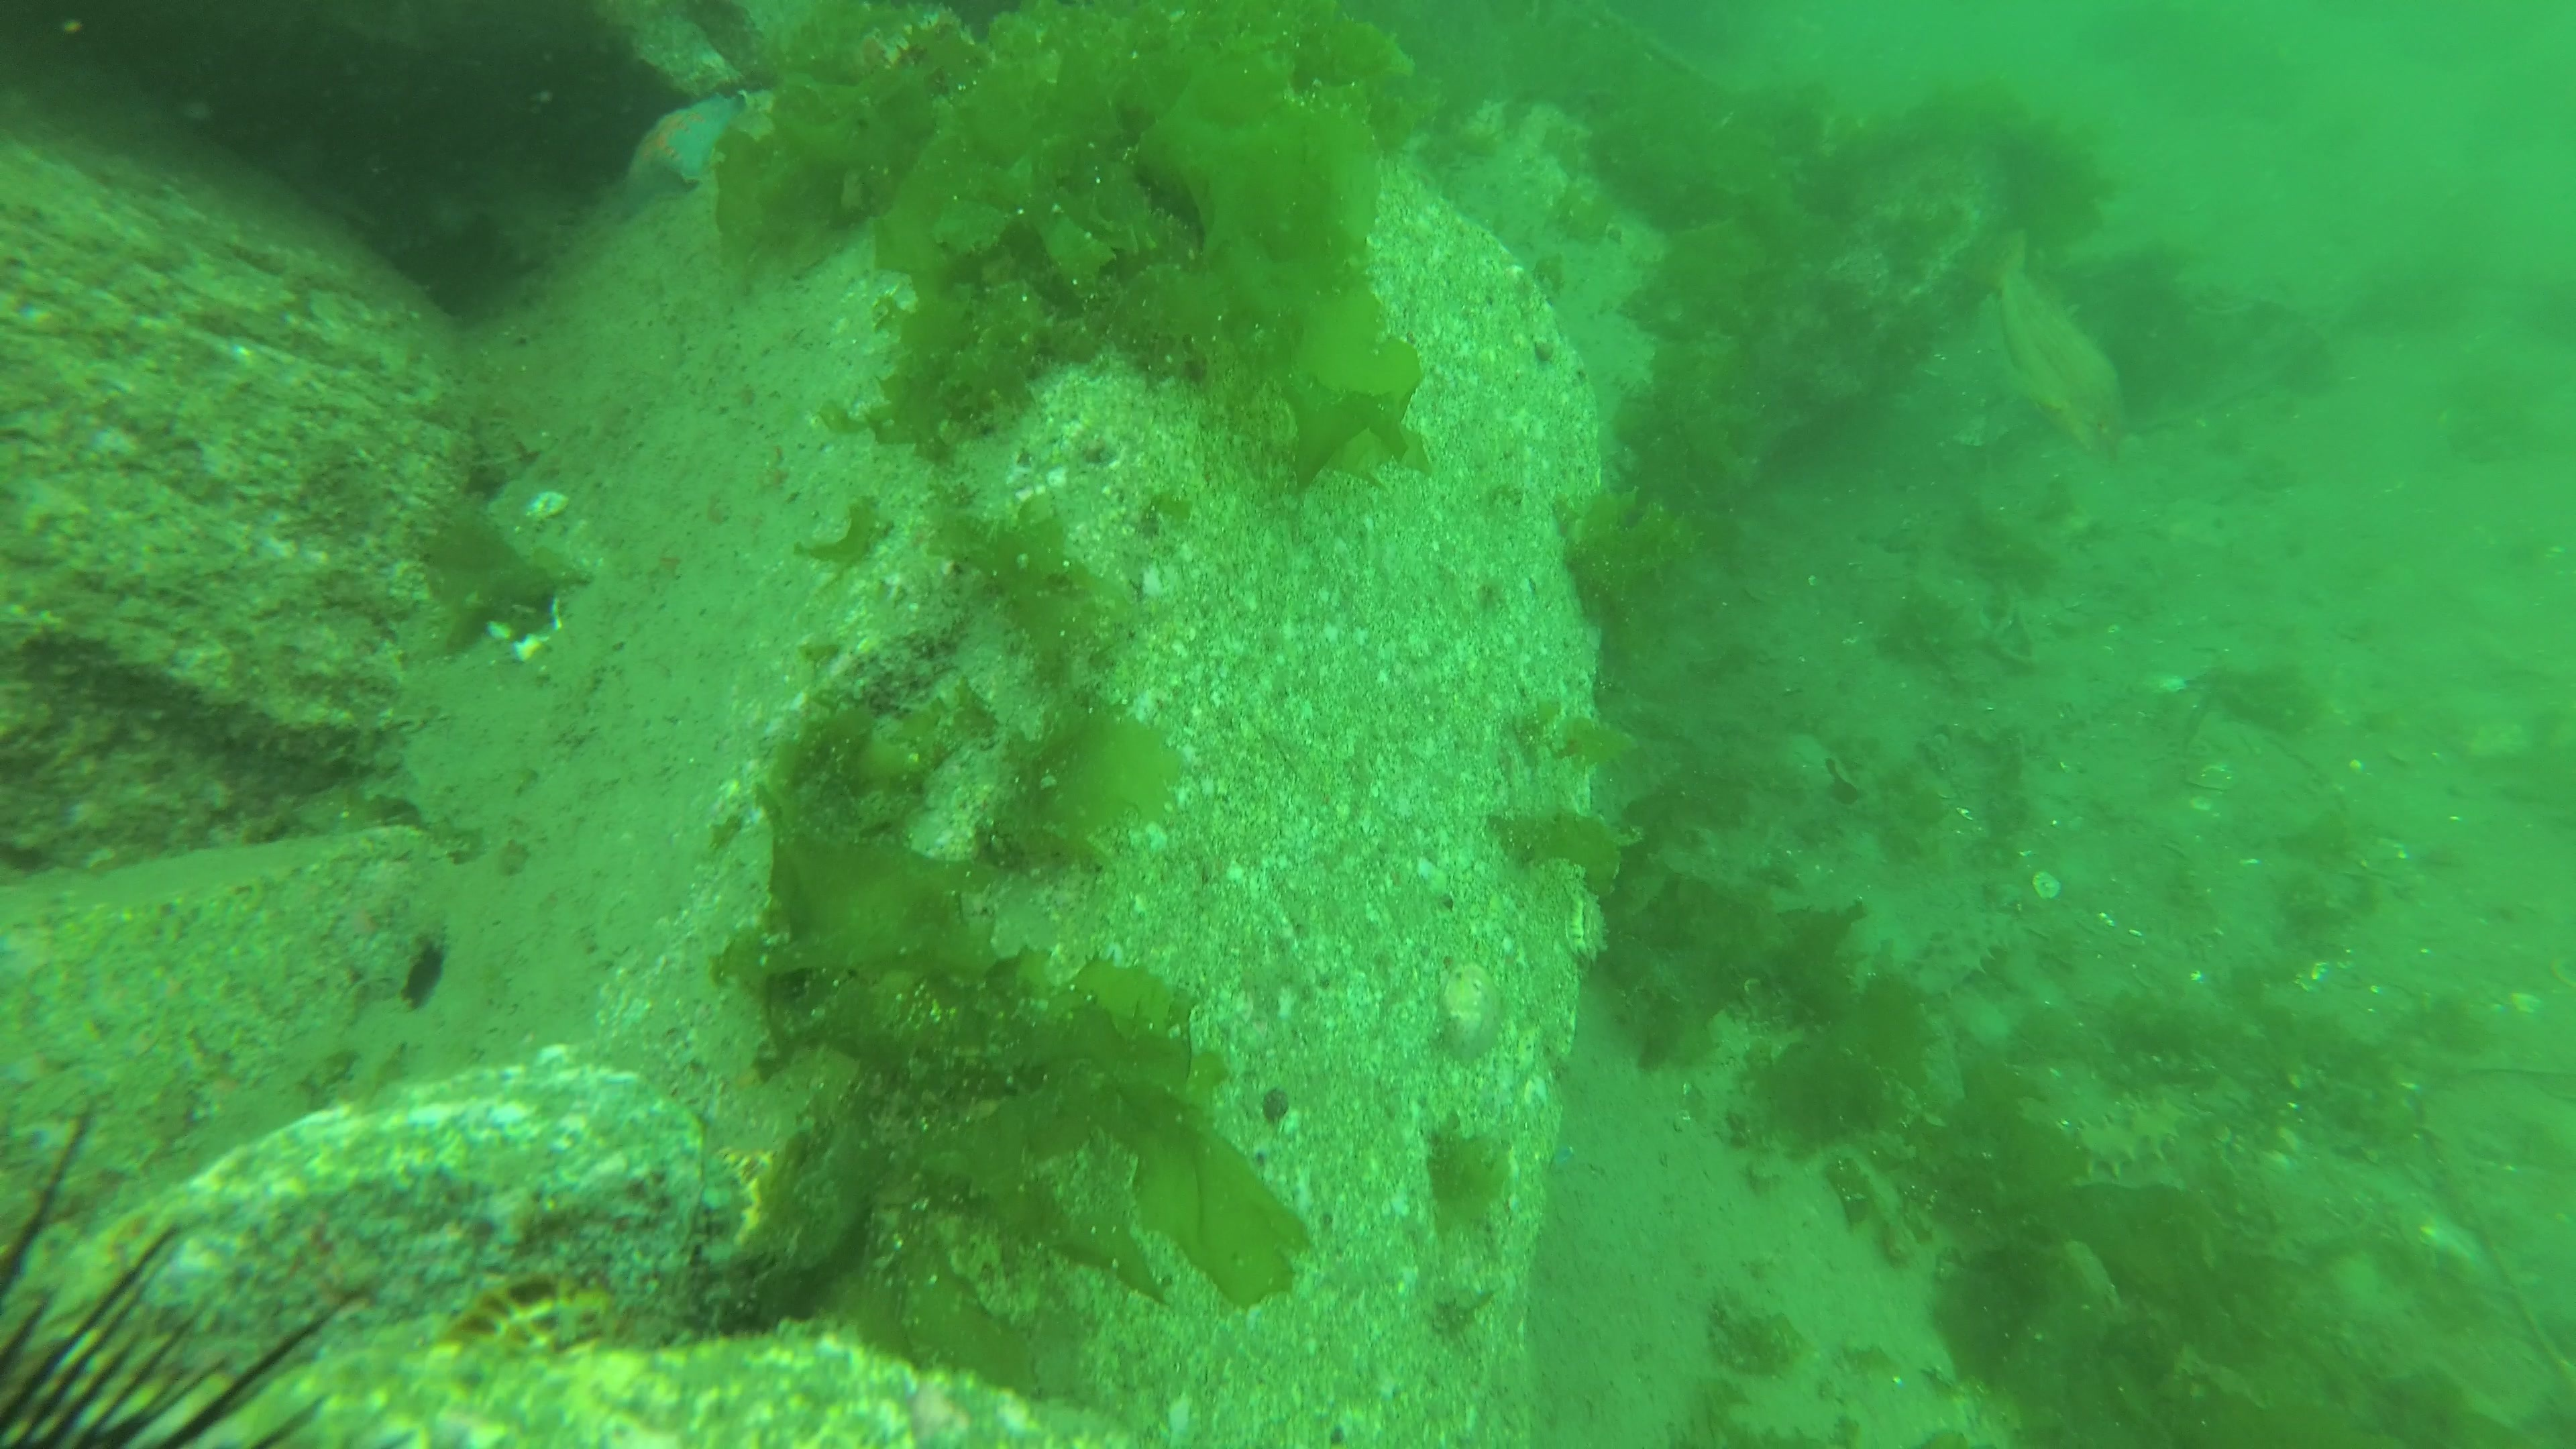holothurian: (2056, 1092, 2203, 1185), (1905, 902, 2003, 1001)
starfish: (609, 88, 750, 205)
